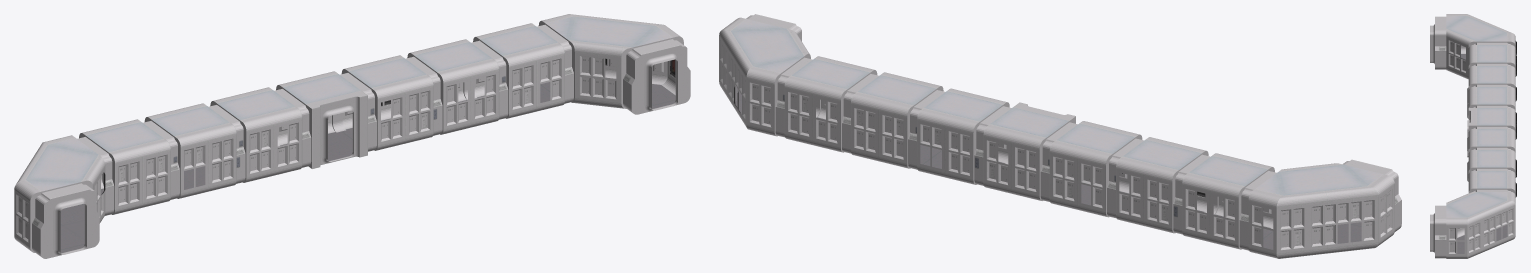
Rendered from thm_spc_corvette_dungeon_r61_hall61_mesh_r61.fbx.
The picture shows the model from 3 angles, left to right: view 1: azimuth 30°, elevation 25°; view 2: azimuth 150°, elevation 25°; view 3: azimuth 270°, elevation 25°; orthographic projection. The views are drawn at different scales.
Visible parts, largest first — view 1: mesh_node; view 2: mesh_node; view 3: mesh_node.
Boxes of the visible parts, x1,y1,x2,y2 form: mesh_node: [14, 14, 690, 258]; mesh_node: [719, 14, 1401, 258]; mesh_node: [1430, 14, 1516, 258].
Size of the model in its own units: 39.9 by 3.5 by 7.
